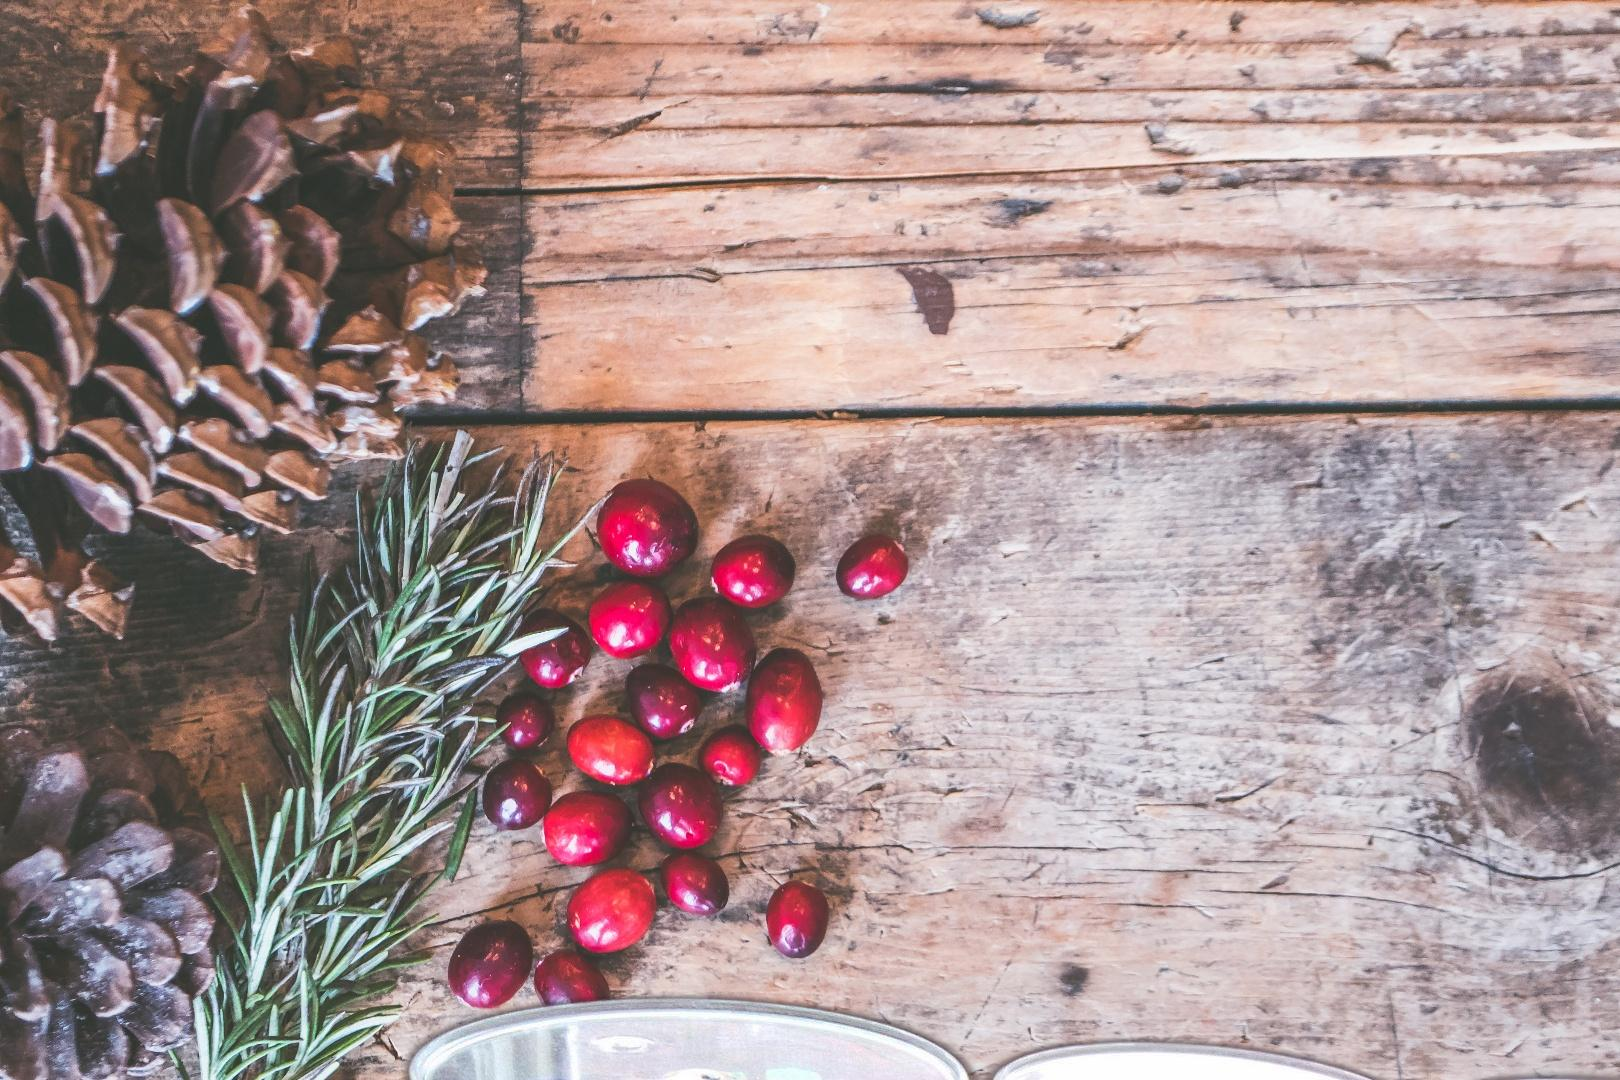penholder: (328, 985, 1620, 1080)
